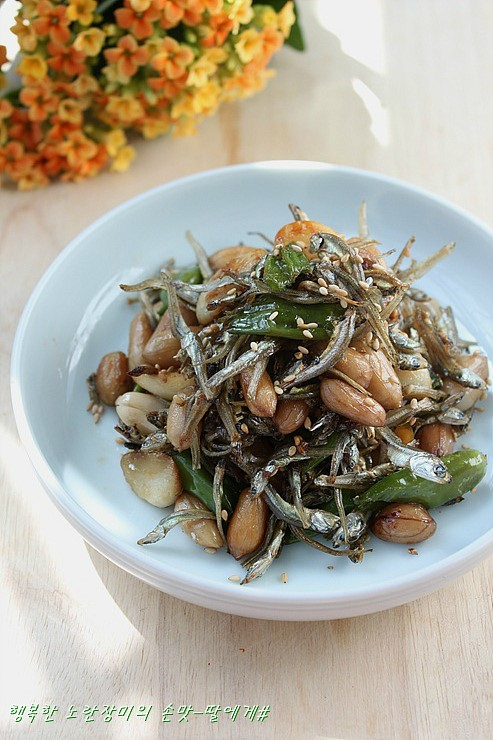myeolchibokk-eum: (90, 195, 493, 581)
